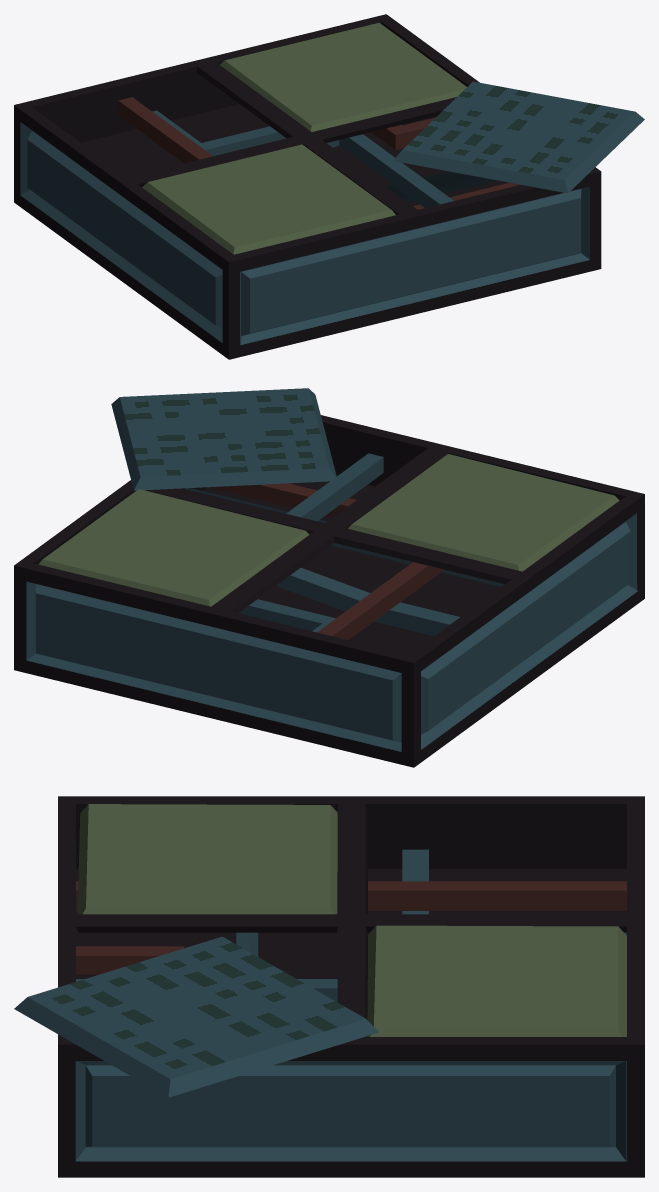
The model's file is Floor_Tiled_03.glb.
3 renders of one model, top to bottom at view 1: azimuth 30°, elevation 25°; view 2: azimuth 150°, elevation 25°; view 3: azimuth 270°, elevation 25°, orthographic. The views are drawn at different scales.
Parts seen in each view (by area): view 1: Floor_Tiled_03; view 2: Floor_Tiled_03; view 3: Floor_Tiled_03.
Part boxes in pixels (x1=…): Floor_Tiled_03: x1=14, y1=14, x2=644, y2=359; Floor_Tiled_03: x1=14, y1=388, x2=644, y2=767; Floor_Tiled_03: x1=14, y1=796, x2=644, y2=1177.
Size of the model in its own units: 1.23 by 0.279 by 1.08.
1 material, 1 textured.
